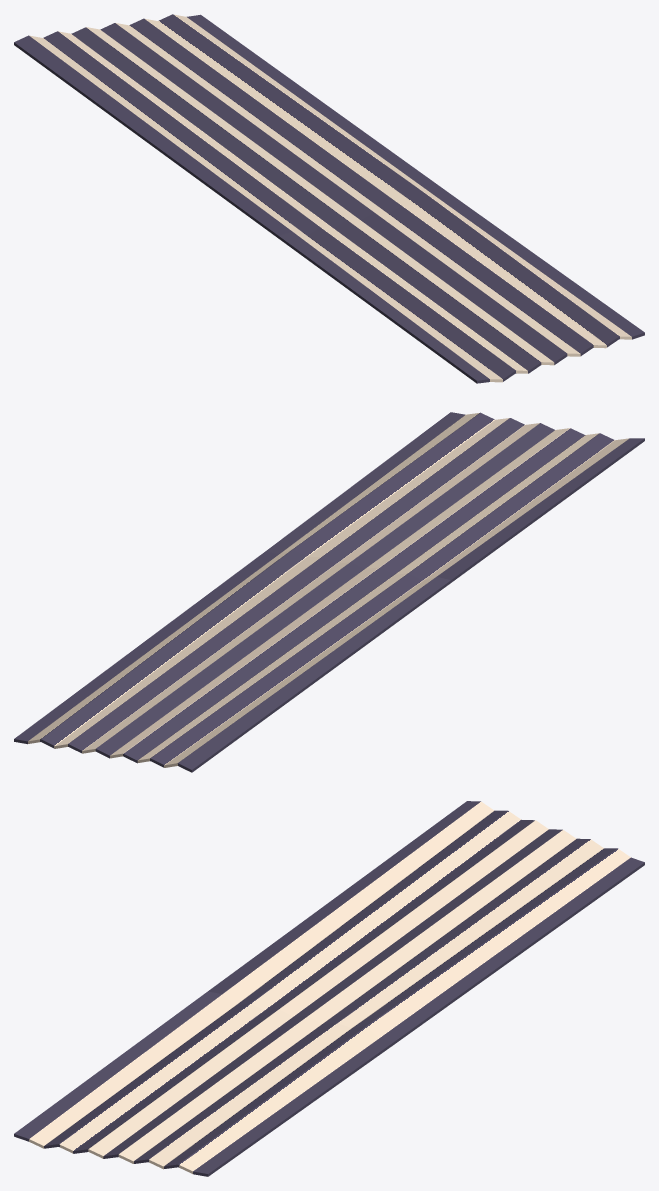
The model's file is Metal_sheet.glb.
3 renders of one model, top to bottom at view 1: azimuth 30°, elevation 25°; view 2: azimuth 150°, elevation 25°; view 3: azimuth 330°, elevation 25°, orthographic.
Visible parts, largest first — view 1: Sheet; view 2: Sheet; view 3: Sheet.
Part boxes in pixels (x1=…): Sheet: x1=14, y1=14, x2=644, y2=383; Sheet: x1=14, y1=412, x2=644, y2=772; Sheet: x1=14, y1=801, x2=644, y2=1176.
Size of what is drawn, in the model's own units: 1.59 by 0.1787 by 6.93.
Materials: 1 (1 with a texture image).
